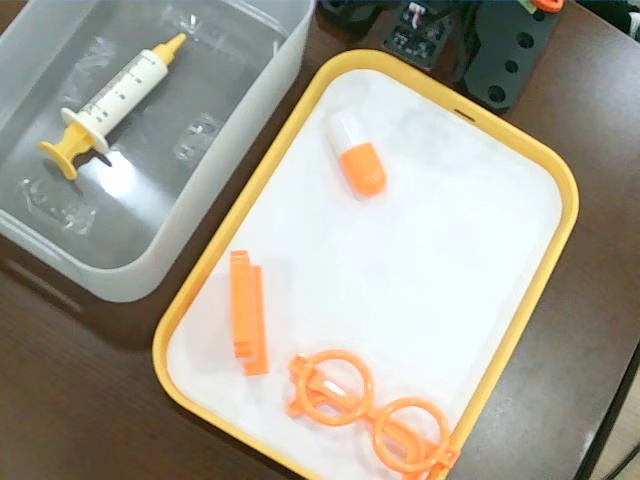pill: (324, 113, 395, 202)
syringe: (36, 28, 187, 182)
